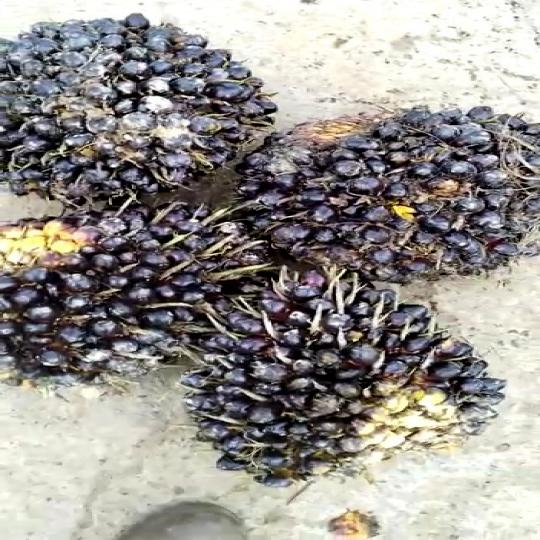mentah: (144, 244, 513, 475), (0, 22, 282, 226), (258, 100, 529, 281), (0, 204, 258, 378)
